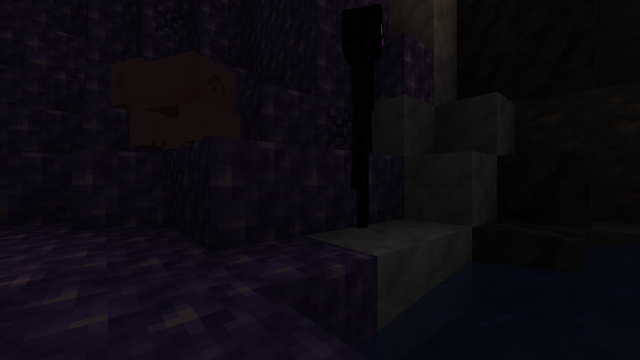cochons: (131, 39, 235, 149)
endermens: (332, 0, 395, 231)
